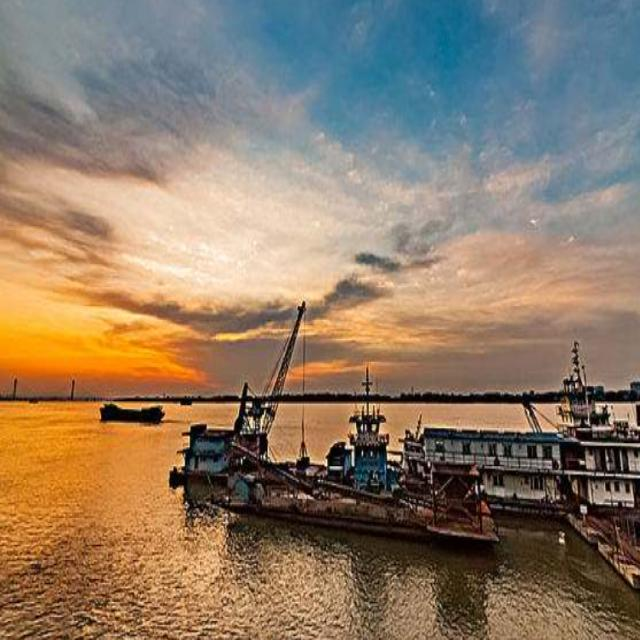cargoship: (169, 357, 491, 539)
